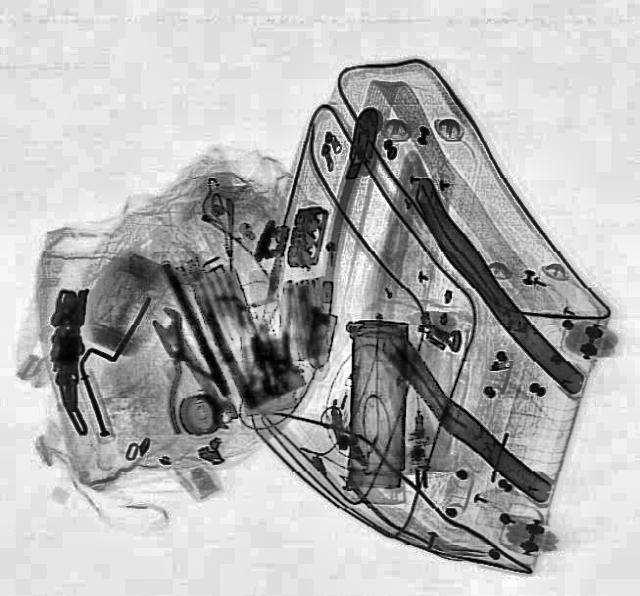Pliers: (136, 321, 238, 435)
Wrench: (142, 302, 248, 432)
